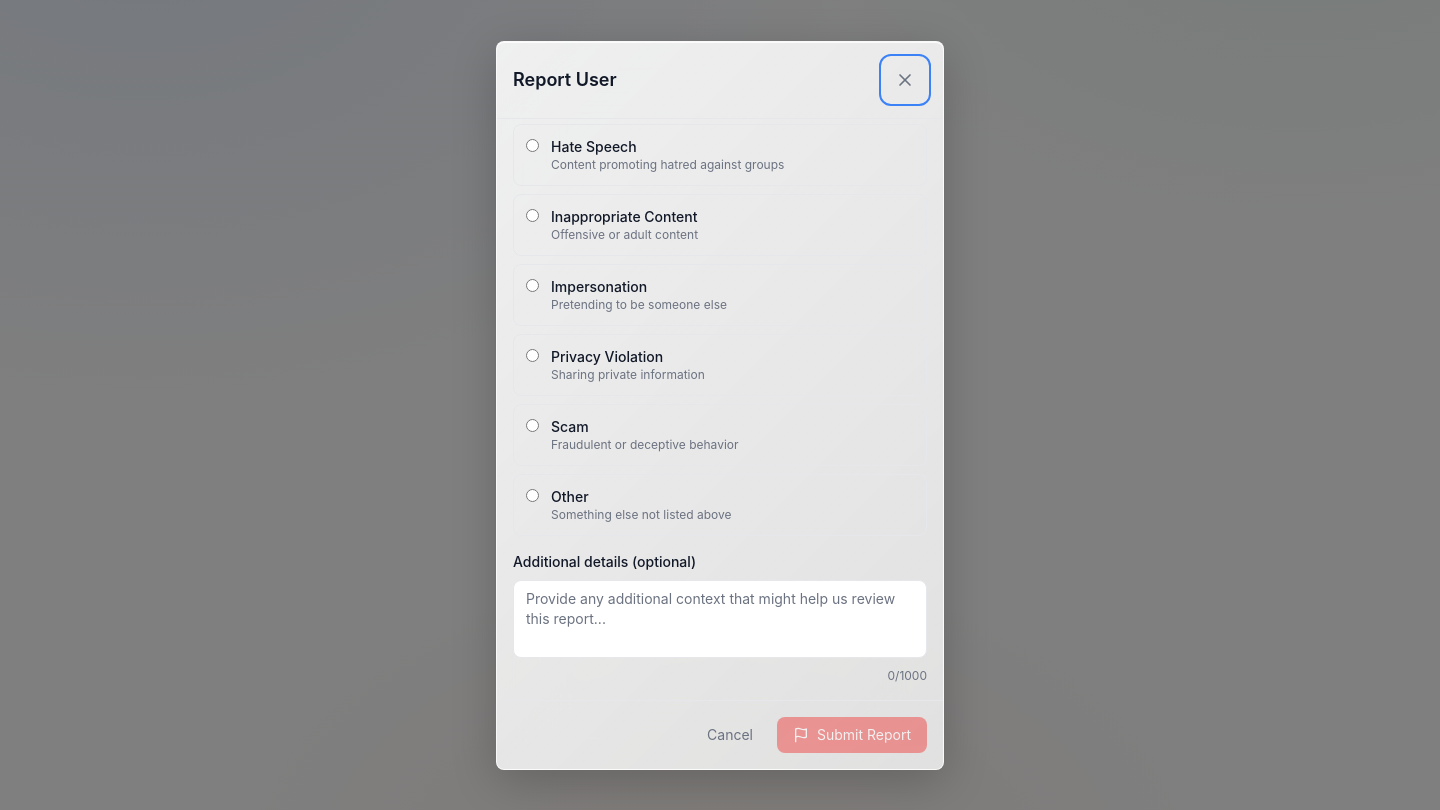
ReportModal › updates character count as user types
The width and height of the screenshot is (1440, 810).
(page scrolled)
Type "Test description" into the text box with placeholder "Provide any additional context that might help us review this report...".
click(720, 618); type("Test description")  # box [513, 580, 927, 658]
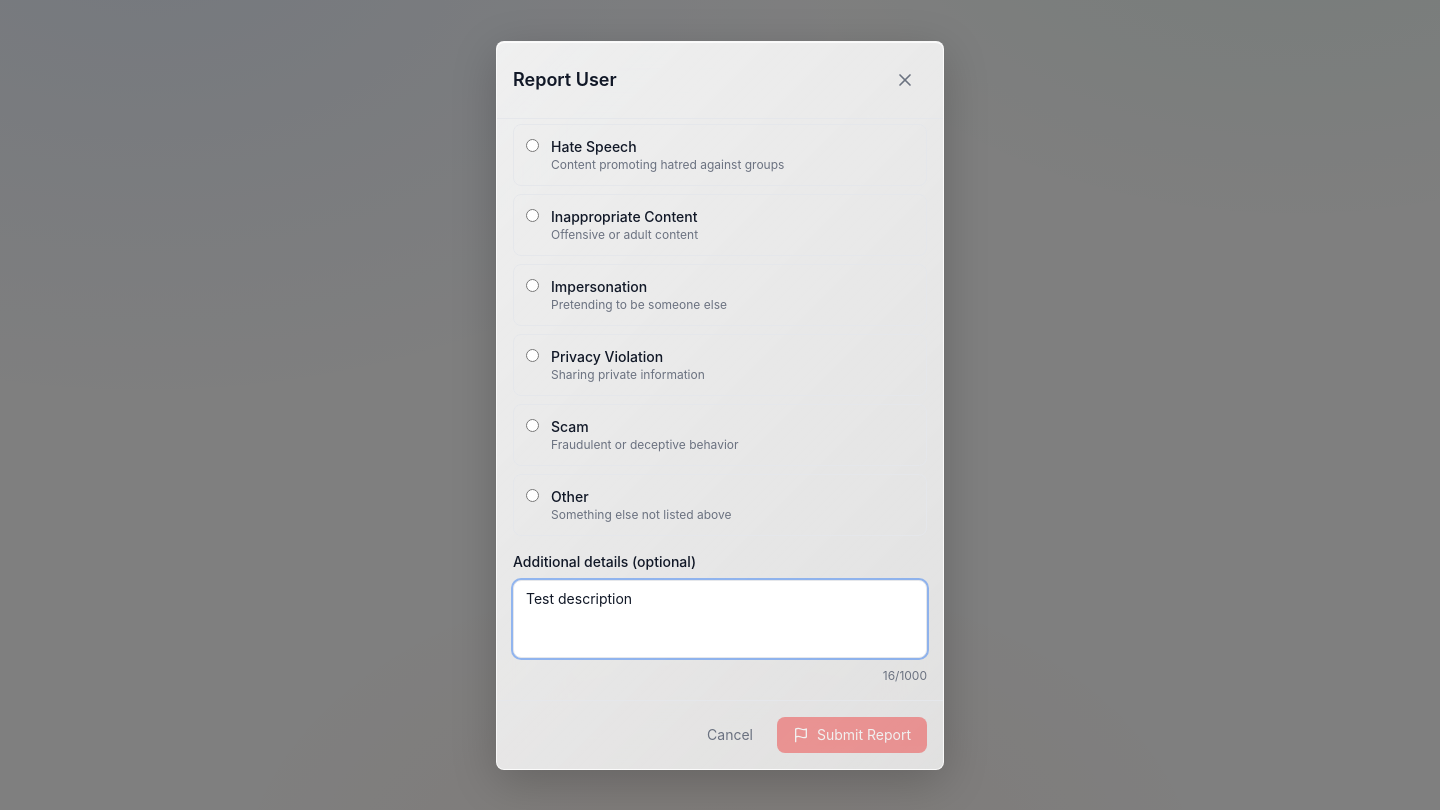
Check: the text "16/1000" is shown, box [883, 668, 927, 682]
